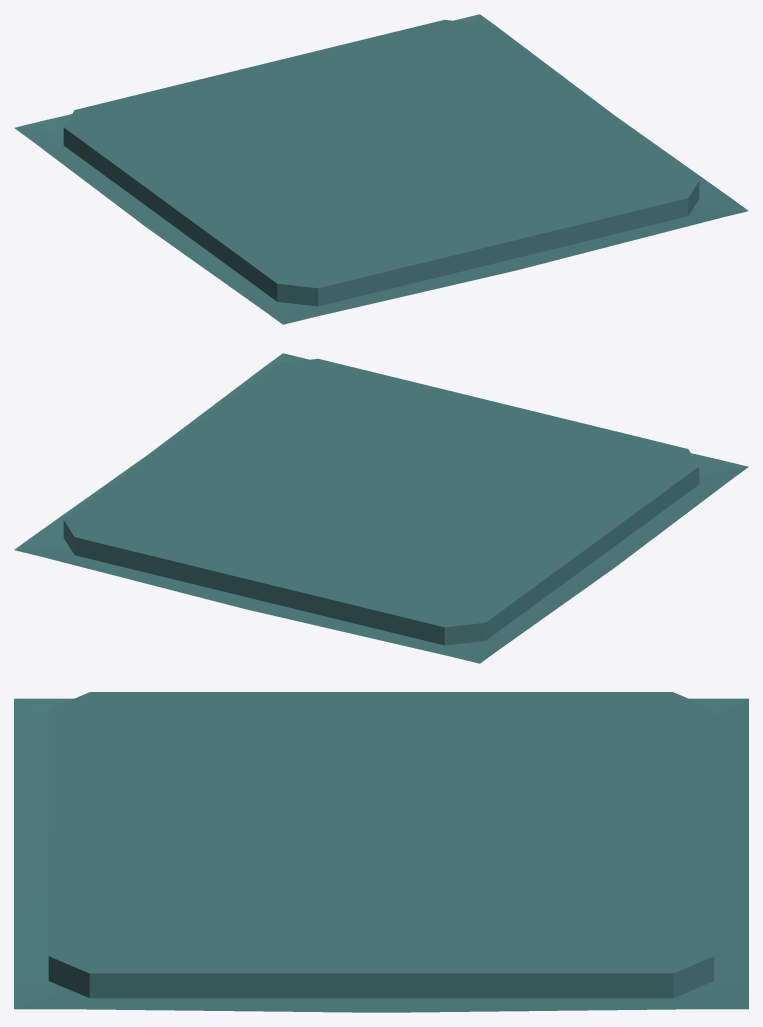
Rendered from HintTop_4Sided.fbx.
3 renders of one model, top to bottom at view 1: azimuth 30°, elevation 25°; view 2: azimuth 150°, elevation 25°; view 3: azimuth 270°, elevation 25°, orthographic. The views are drawn at different scales.
Visible parts, largest first — view 1: HintTop_4Sided; view 2: HintTop_4Sided; view 3: HintTop_4Sided.
Part boxes in pixels (x1,y1,x2,y2): HintTop_4Sided: [14, 14, 748, 324]; HintTop_4Sided: [14, 353, 748, 663]; HintTop_4Sided: [14, 692, 748, 1012].
Bounding box in the file's own units: 400 × 14.89 × 400.
